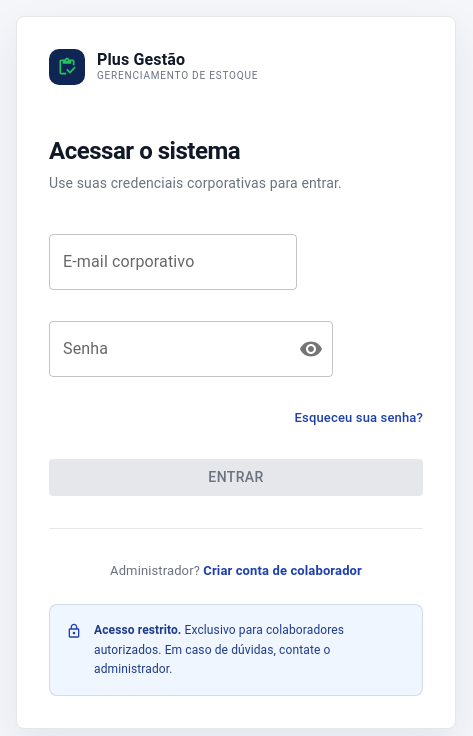
LoginPage › exibe CircularProgress durante o loading
Step 1. Type "user@plus.com" into the field labelled "E-mail corporativo" → (173, 262), box [49,234,297,290]
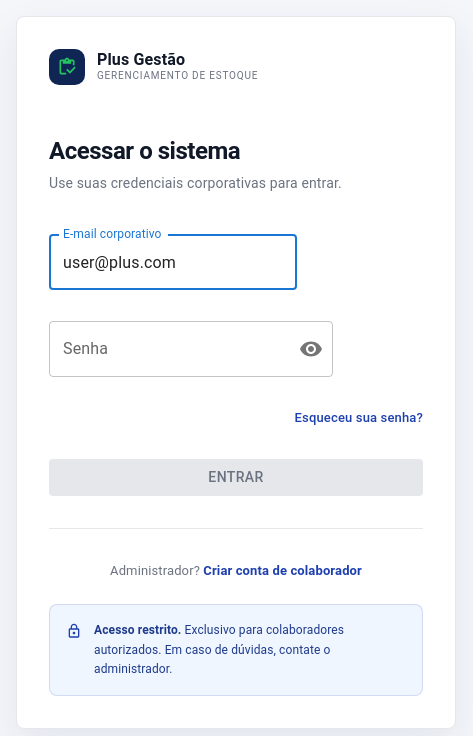
Step 2. Type "Valid@123" into the password field labelled "Senha" → (166, 349), box [49,321,283,377]
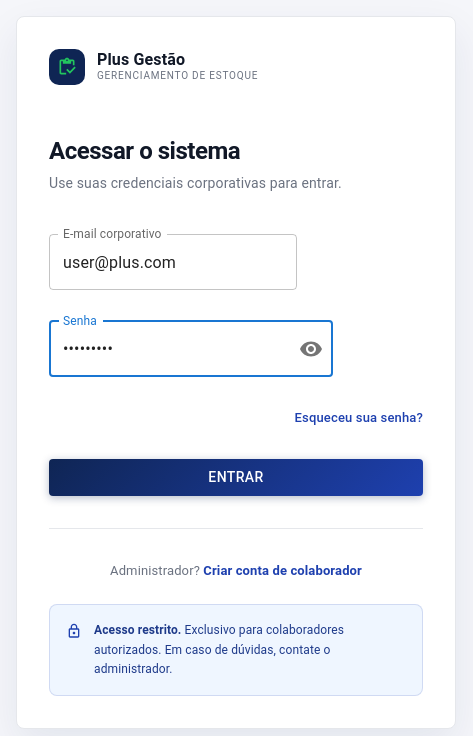
Now the button "Entrar" is enabled
Step 3. Click the button "Entrar" → (236, 478), box [49,459,423,496]
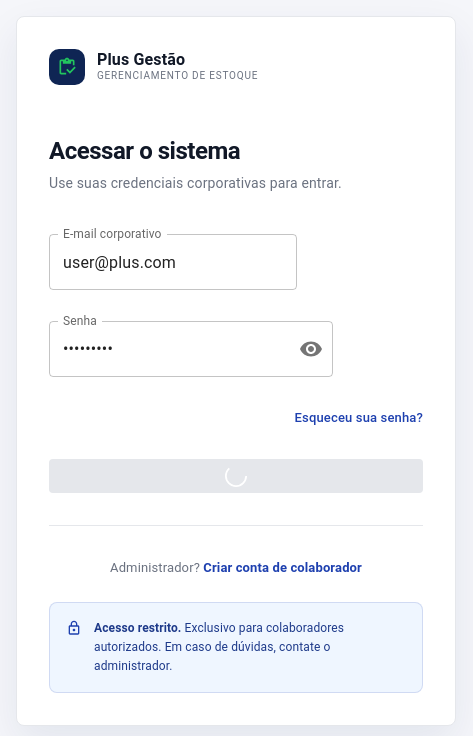
Now the progress indicator is shown, box [225,465,247,487]
